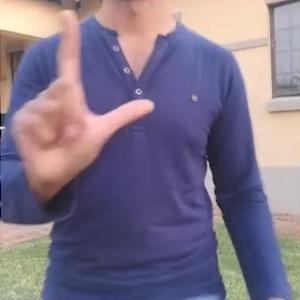land_hand: (9, 2, 157, 187)
